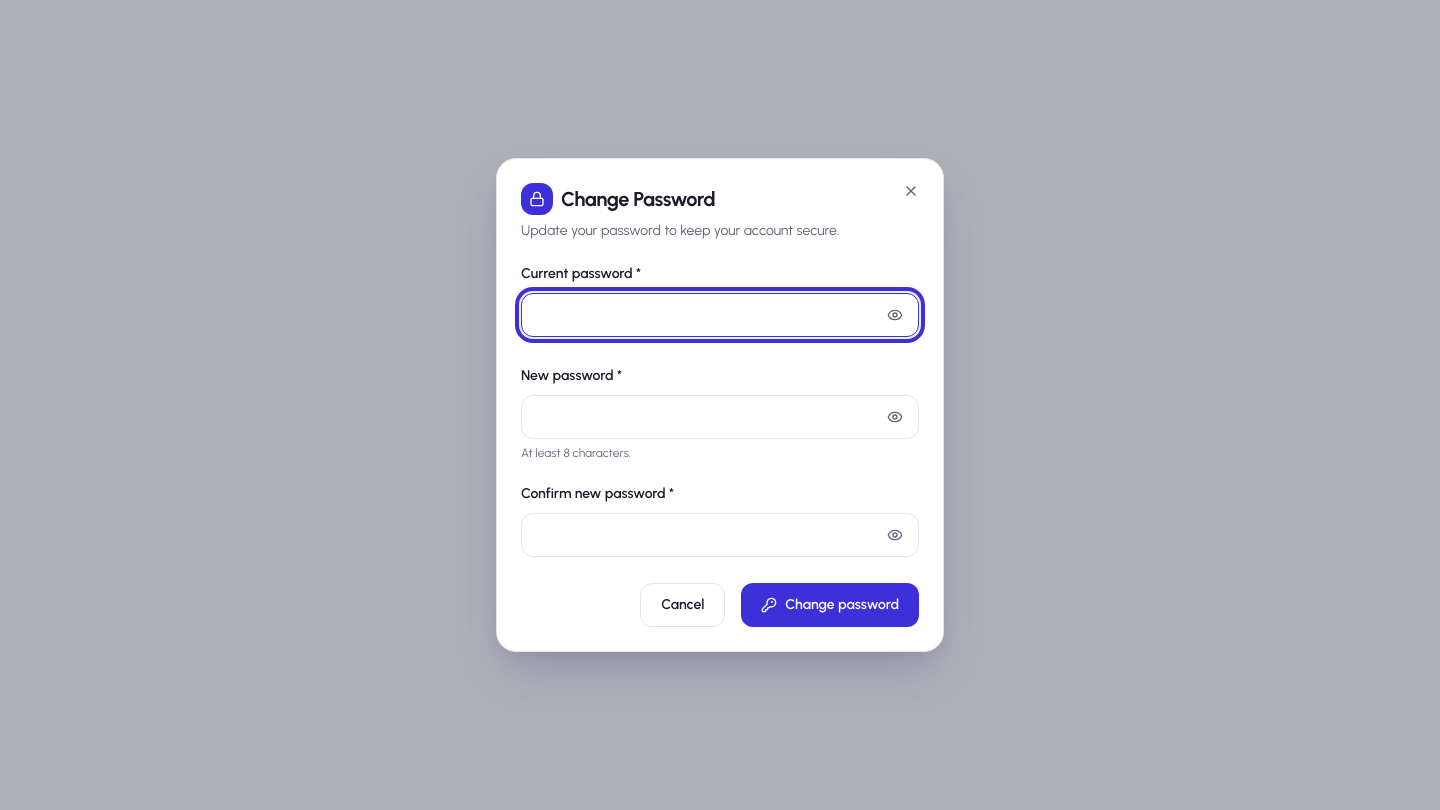
Test: ChangePasswordDialog › a short new password says how short
Type "Old-Passw0rd" into the password field labelled "Current password *" at (720,315), box x1=521 y1=293 x2=919 y2=337
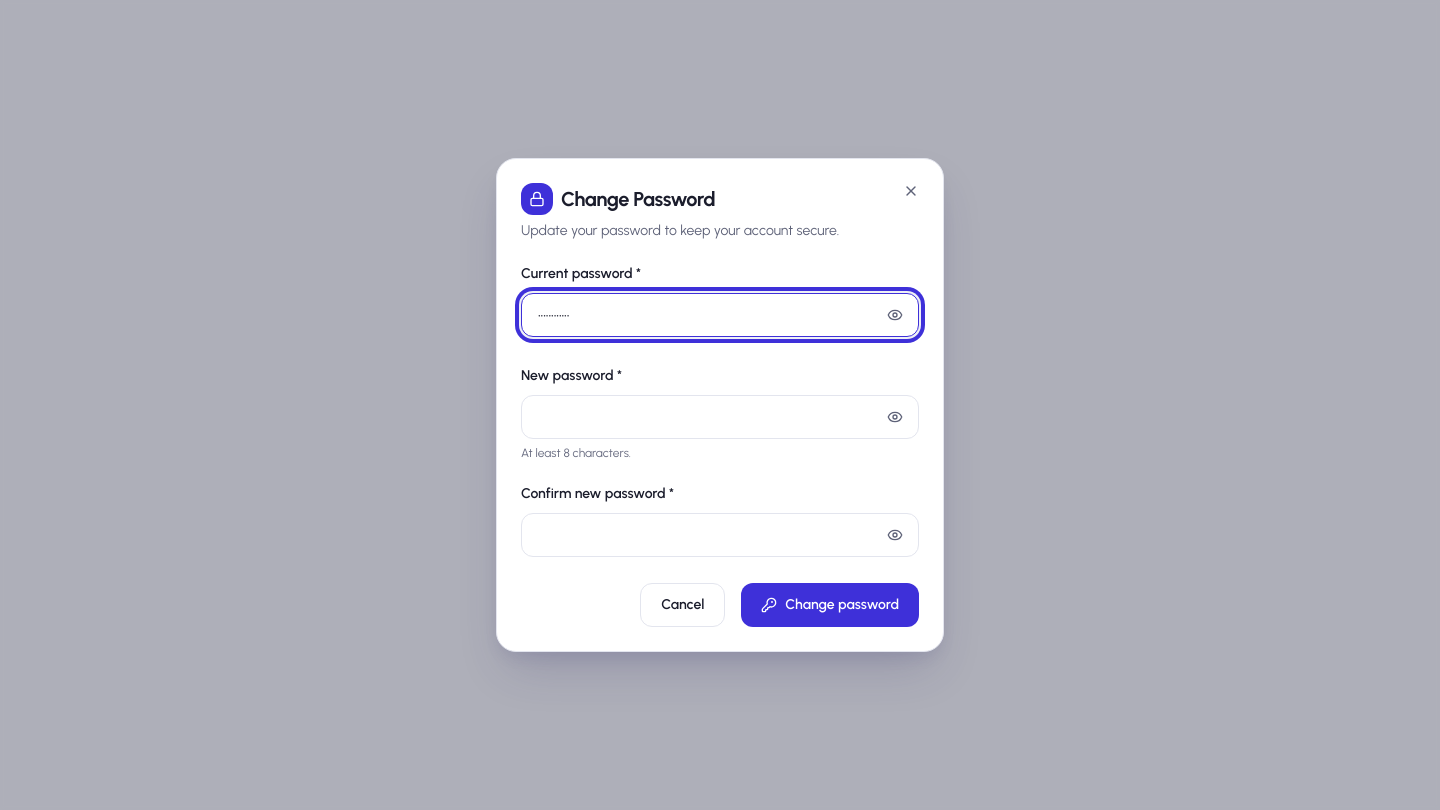
Type "abc12" into the password field labelled "New password *" at (720,417), box x1=521 y1=395 x2=919 y2=439
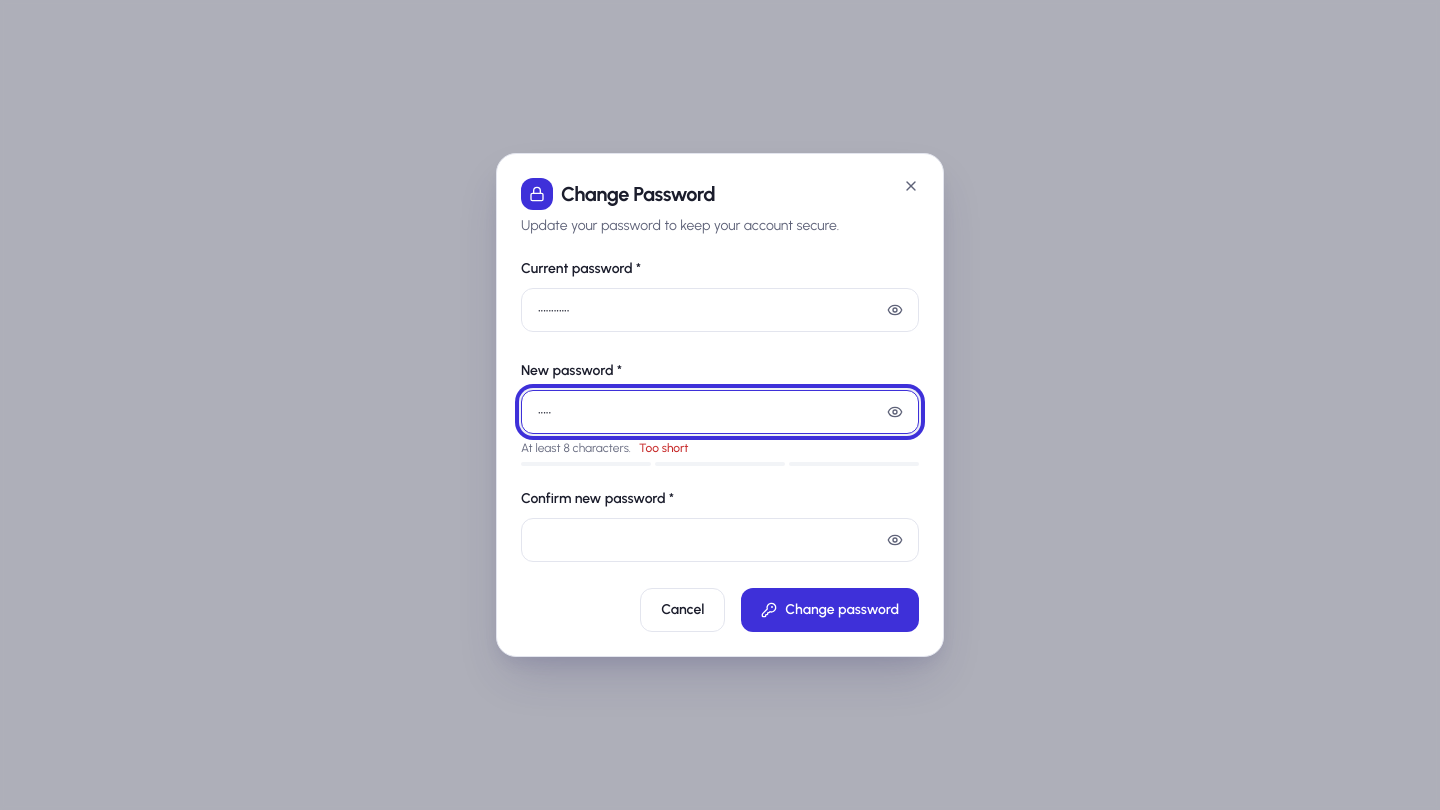
Type "abc12" into the password field labelled "Confirm new password *" at (720,540), box x1=521 y1=518 x2=919 y2=562
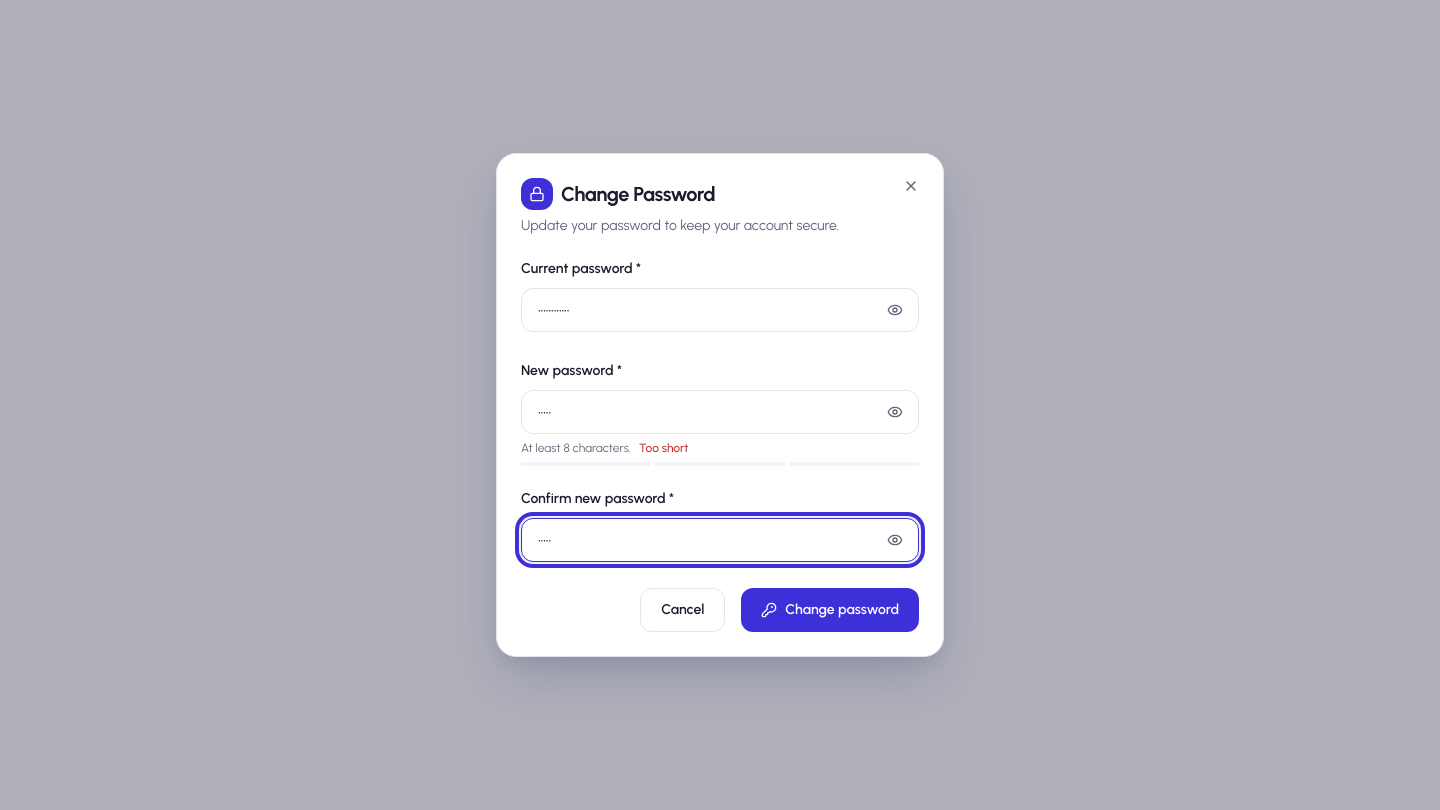
Click the button "Change password" at (830,610), box x1=741 y1=588 x2=919 y2=632
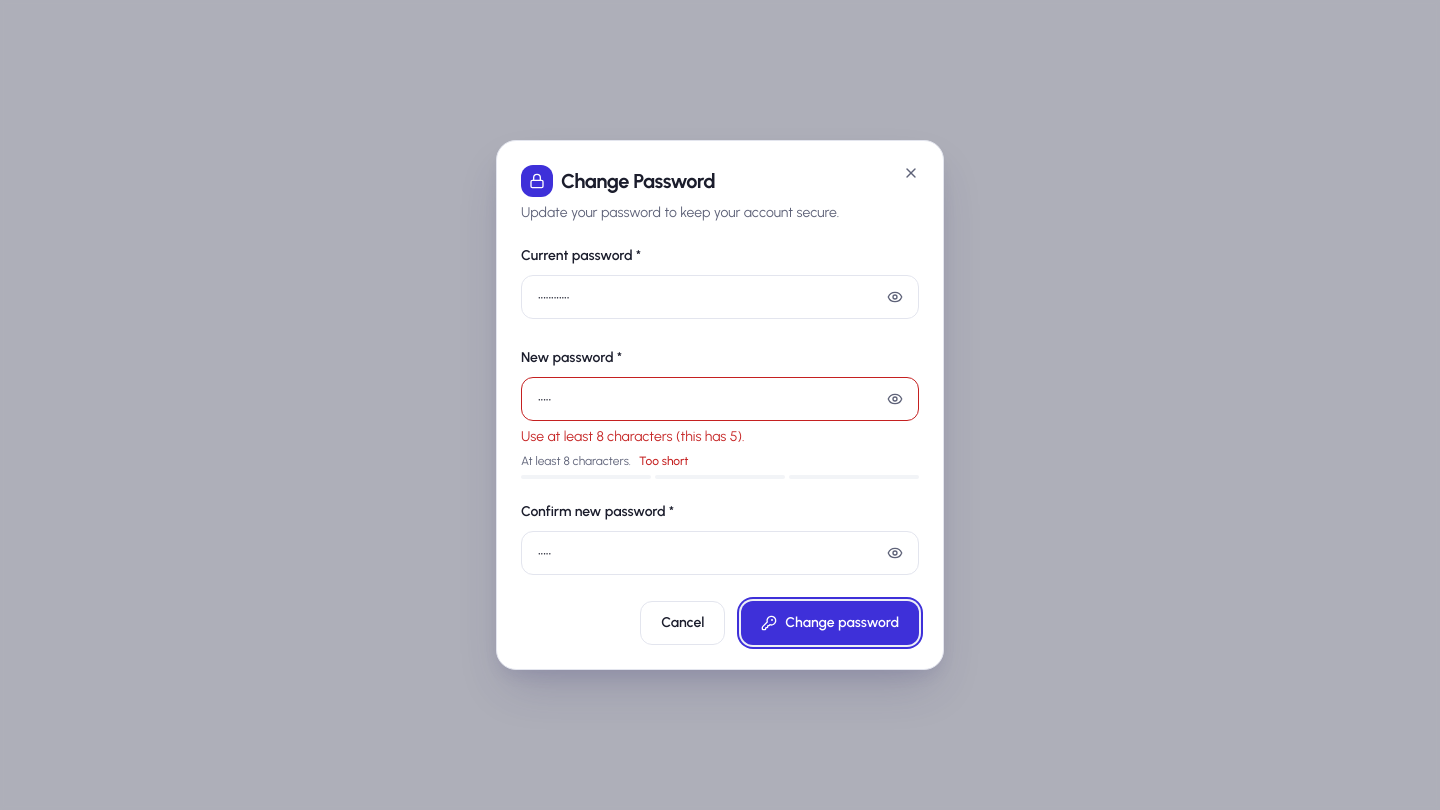
Check: the text "Use at least 8 characters (this has 5)." is shown, box x1=521 y1=428 x2=744 y2=445
